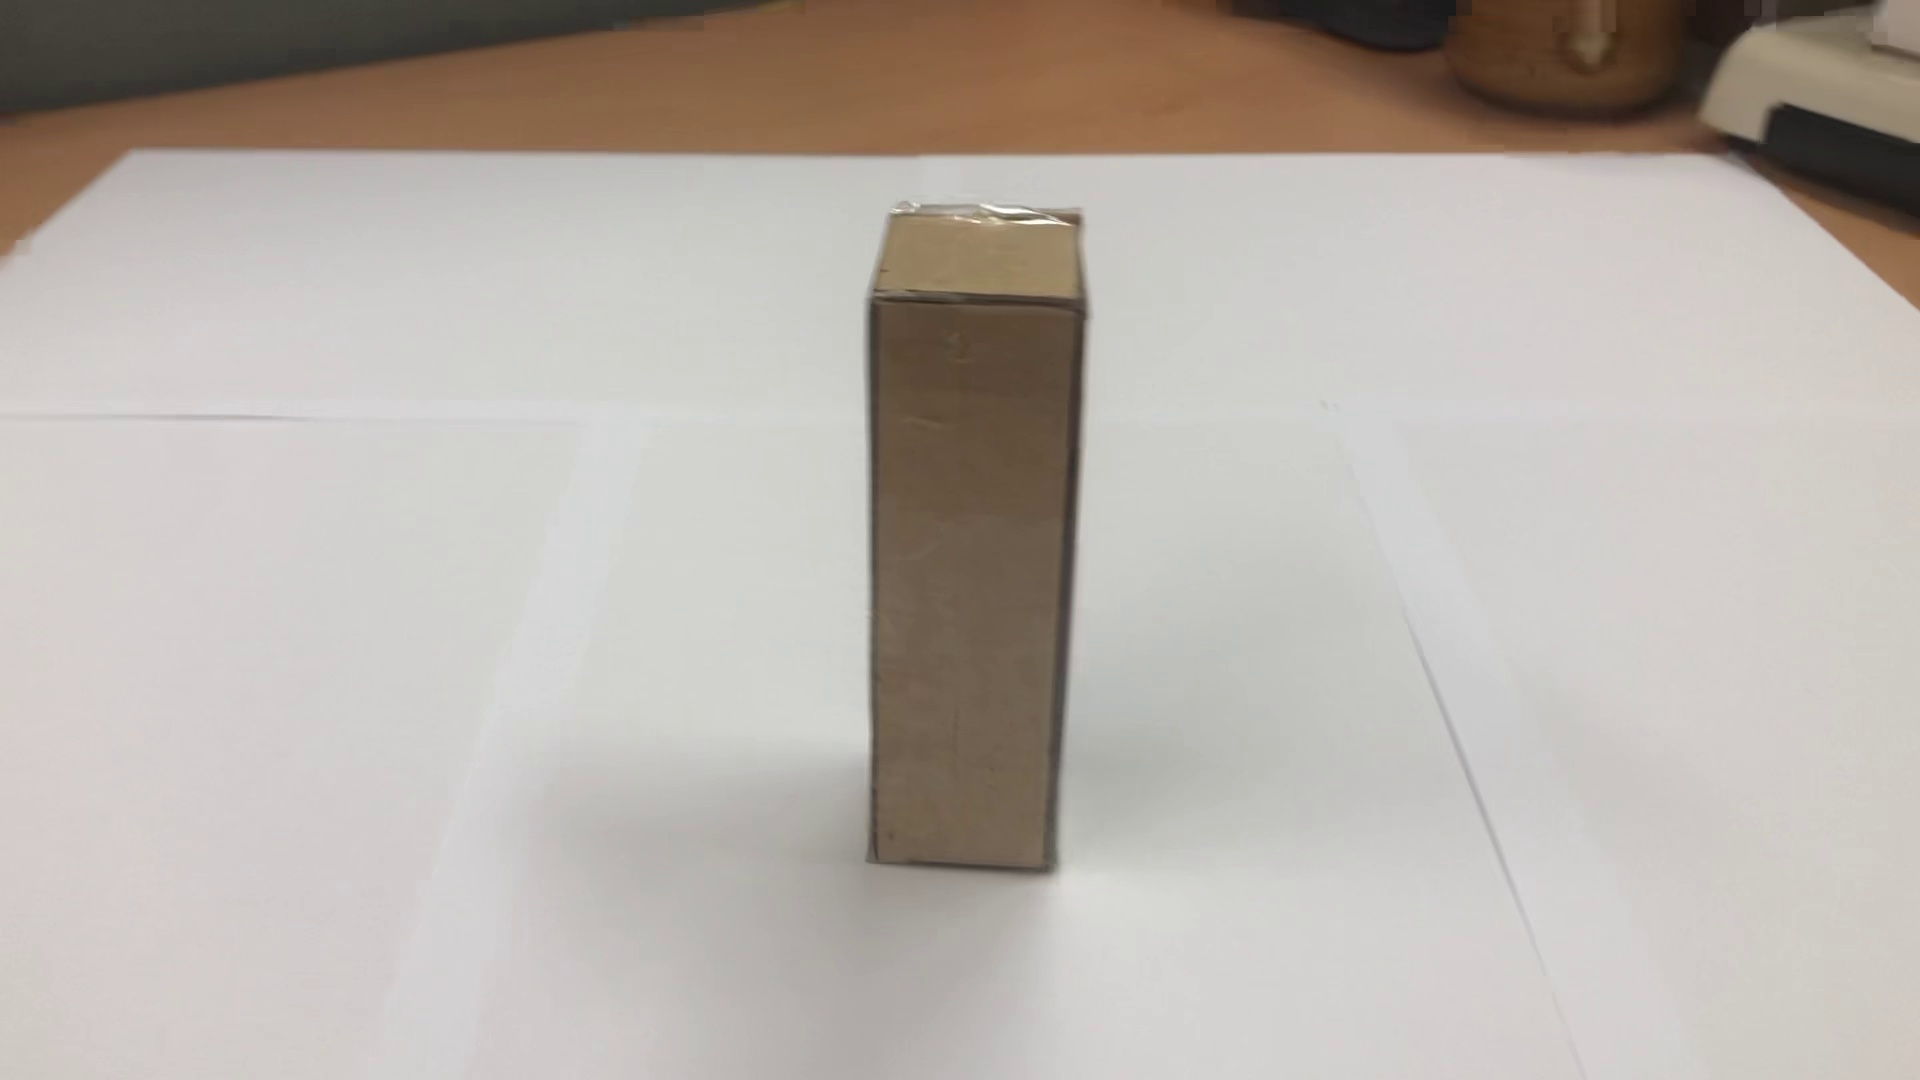box: (847, 189, 1109, 889)
